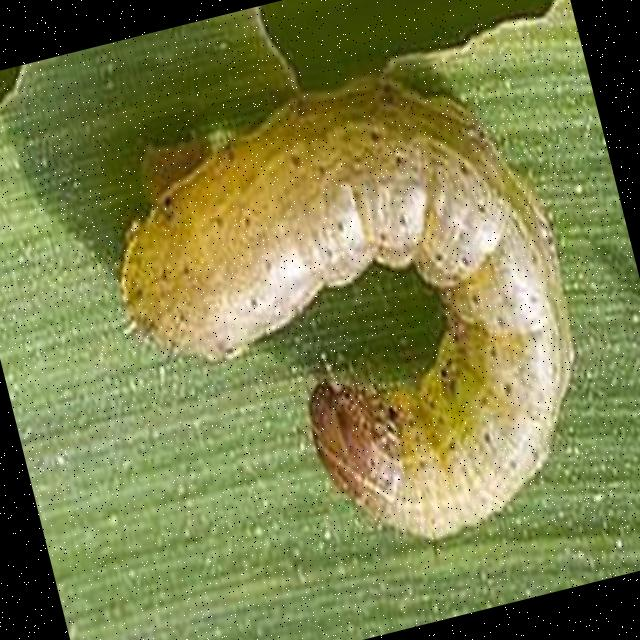worm: (78, 37, 623, 604)
